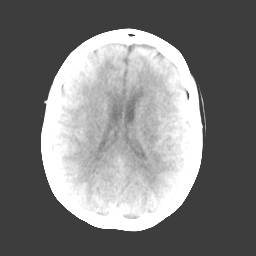ischemic: (139, 96, 158, 143)
